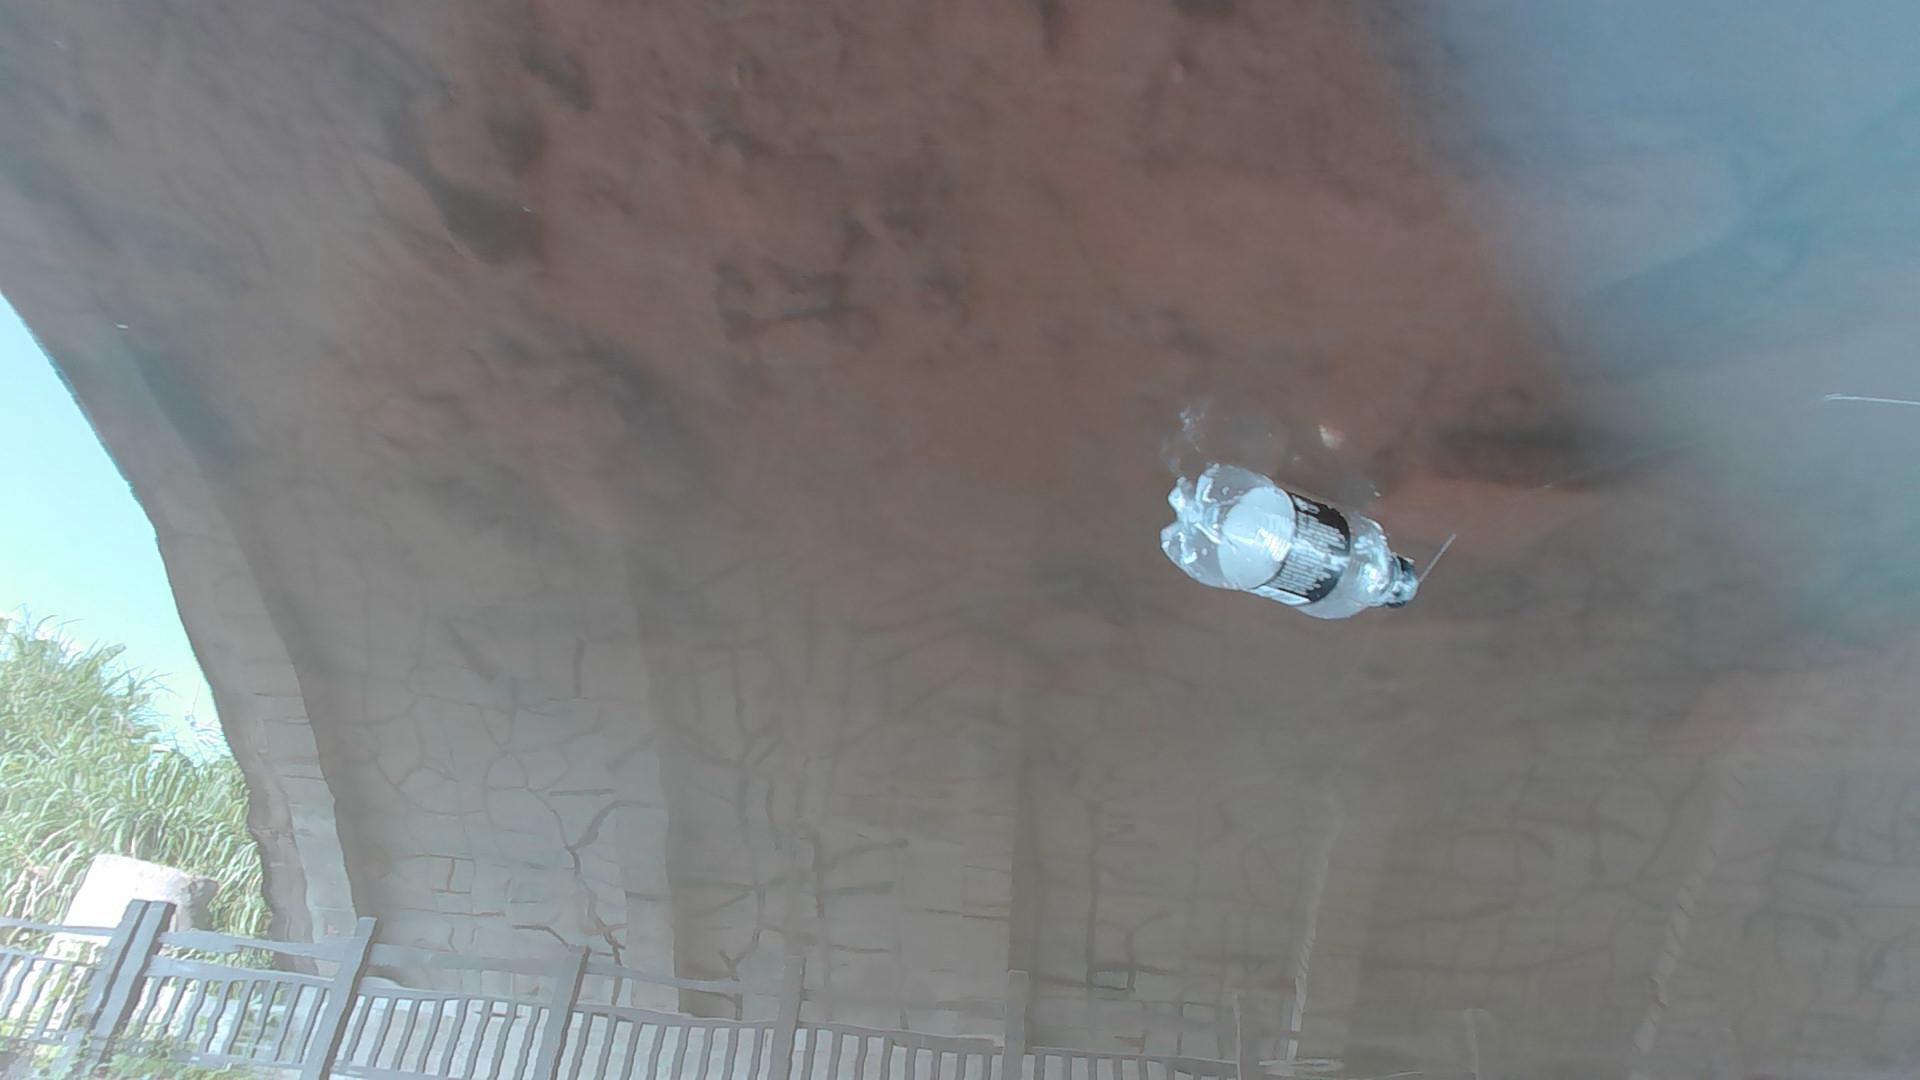Plastic: (1156, 460, 1425, 625)
